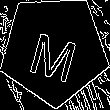M_N: (27, 19, 82, 81)
